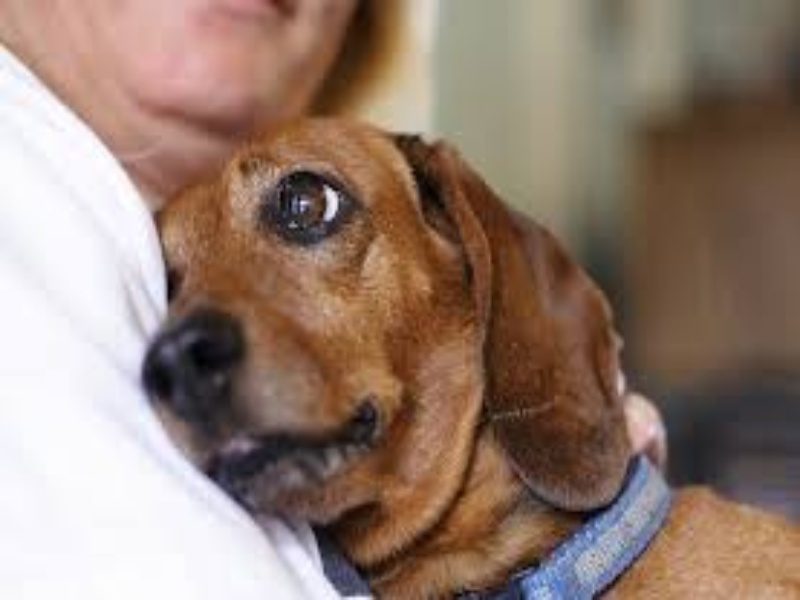dog: (139, 102, 698, 598)
